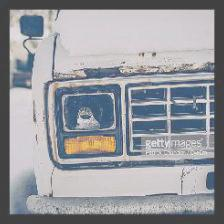head_lamp: (32, 38, 212, 178)
